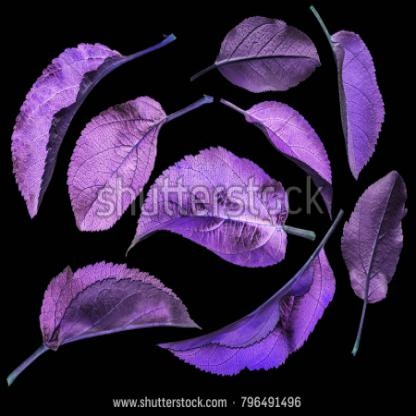apple leaf: (157, 234, 343, 390), (130, 131, 317, 283), (1, 36, 137, 210), (45, 91, 177, 245), (29, 257, 196, 360), (341, 146, 403, 355), (203, 11, 324, 97), (332, 9, 385, 193)
